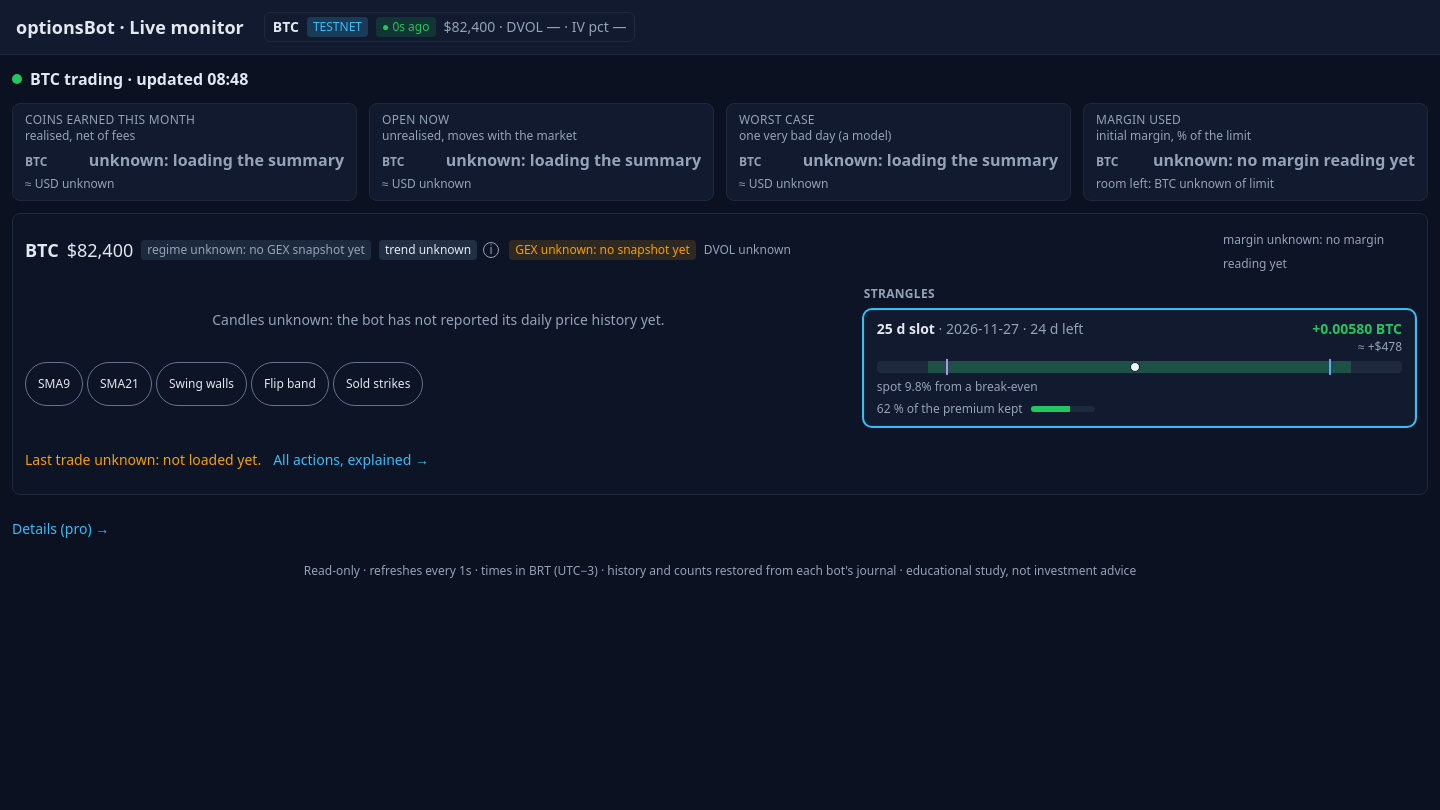
Scenario: open from a leg › the overview shows each strangle as a row-button that opens the modal; focus returns to the row
Step 1. Click the button with aria-label "BTC 25 d slot, expiry 2026-11-27, 24 d left, P&L +0.00580 BT" → (1139, 368), box [864,310,1415,426]
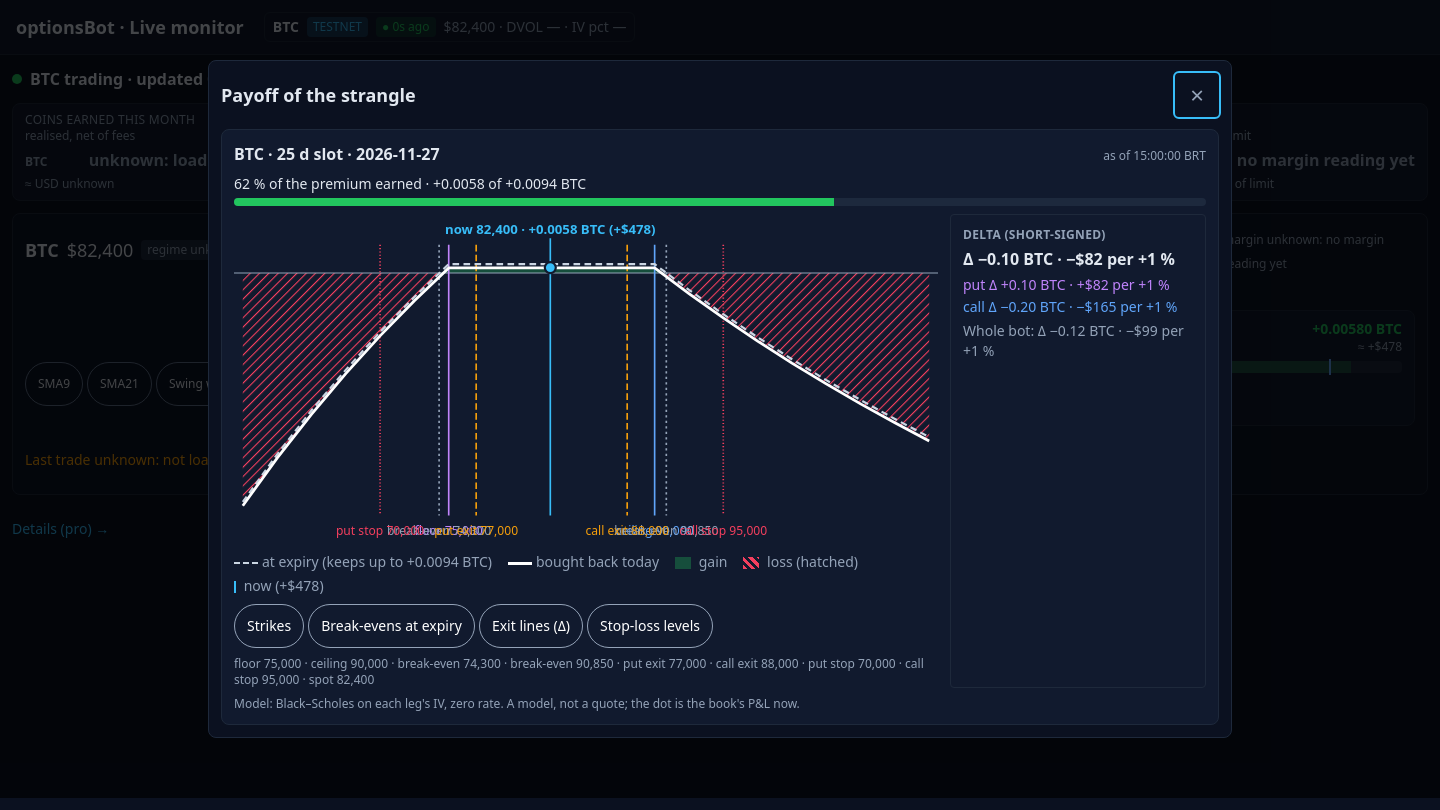
Now the heading "BTC · 25 d slot · 2026-11-27" is shown, box [234,142,440,166]
Step 2. Click the button named "Close" → (1197, 95), box [1175,73,1219,117]
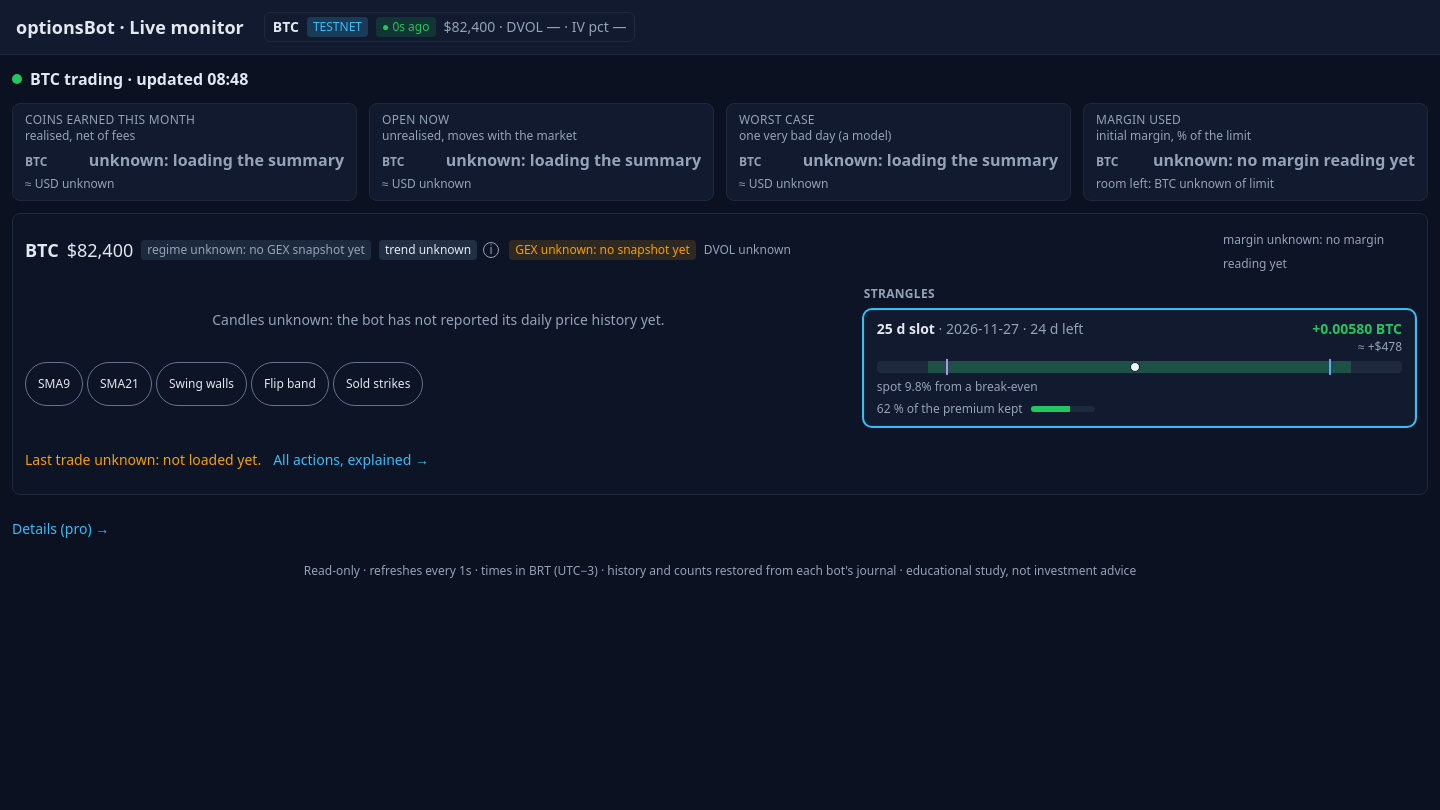
Now the dialog is gone
